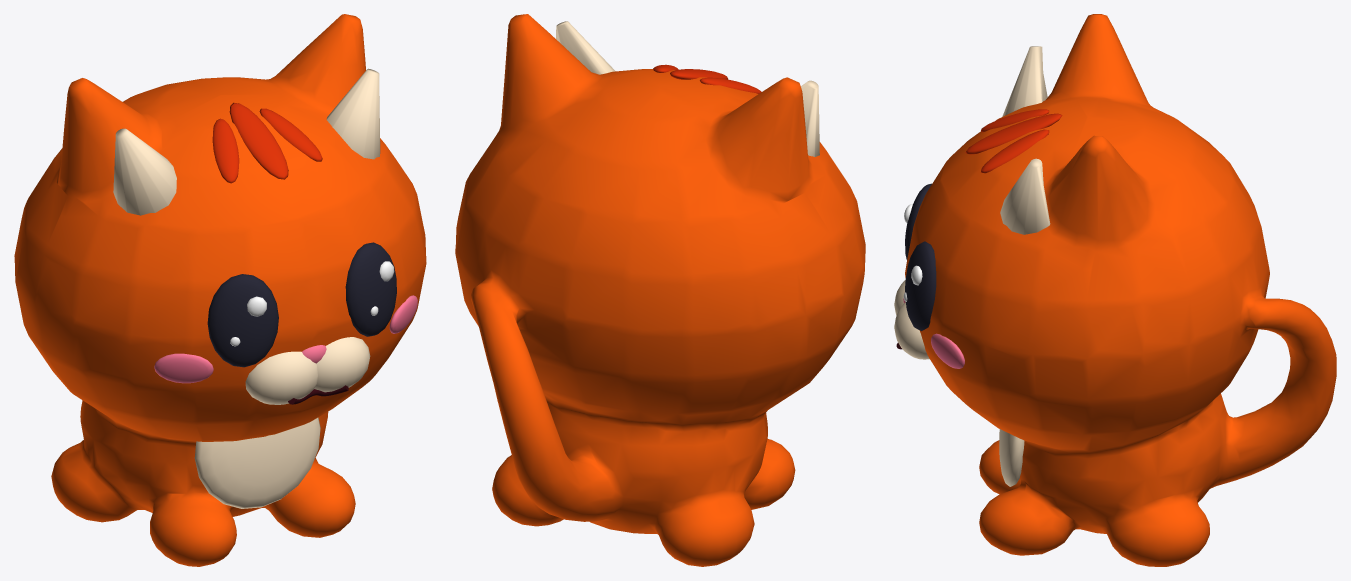
The model's file is chat.fbx.
3 views of the same model, side by side, from view 1: azimuth 30°, elevation 25°; view 2: azimuth 150°, elevation 25°; view 3: azimuth 270°, elevation 25° (orthographic). The views are drawn at different scales.
Parts seen in each view (by area): view 1: chat; view 2: chat; view 3: chat.
Part boxes in pixels (x1,y1,x2,y2): chat: [14, 14, 426, 566]; chat: [455, 14, 865, 566]; chat: [894, 14, 1336, 566].
Bounding box in the file's own units: 199 × 243 × 218.
